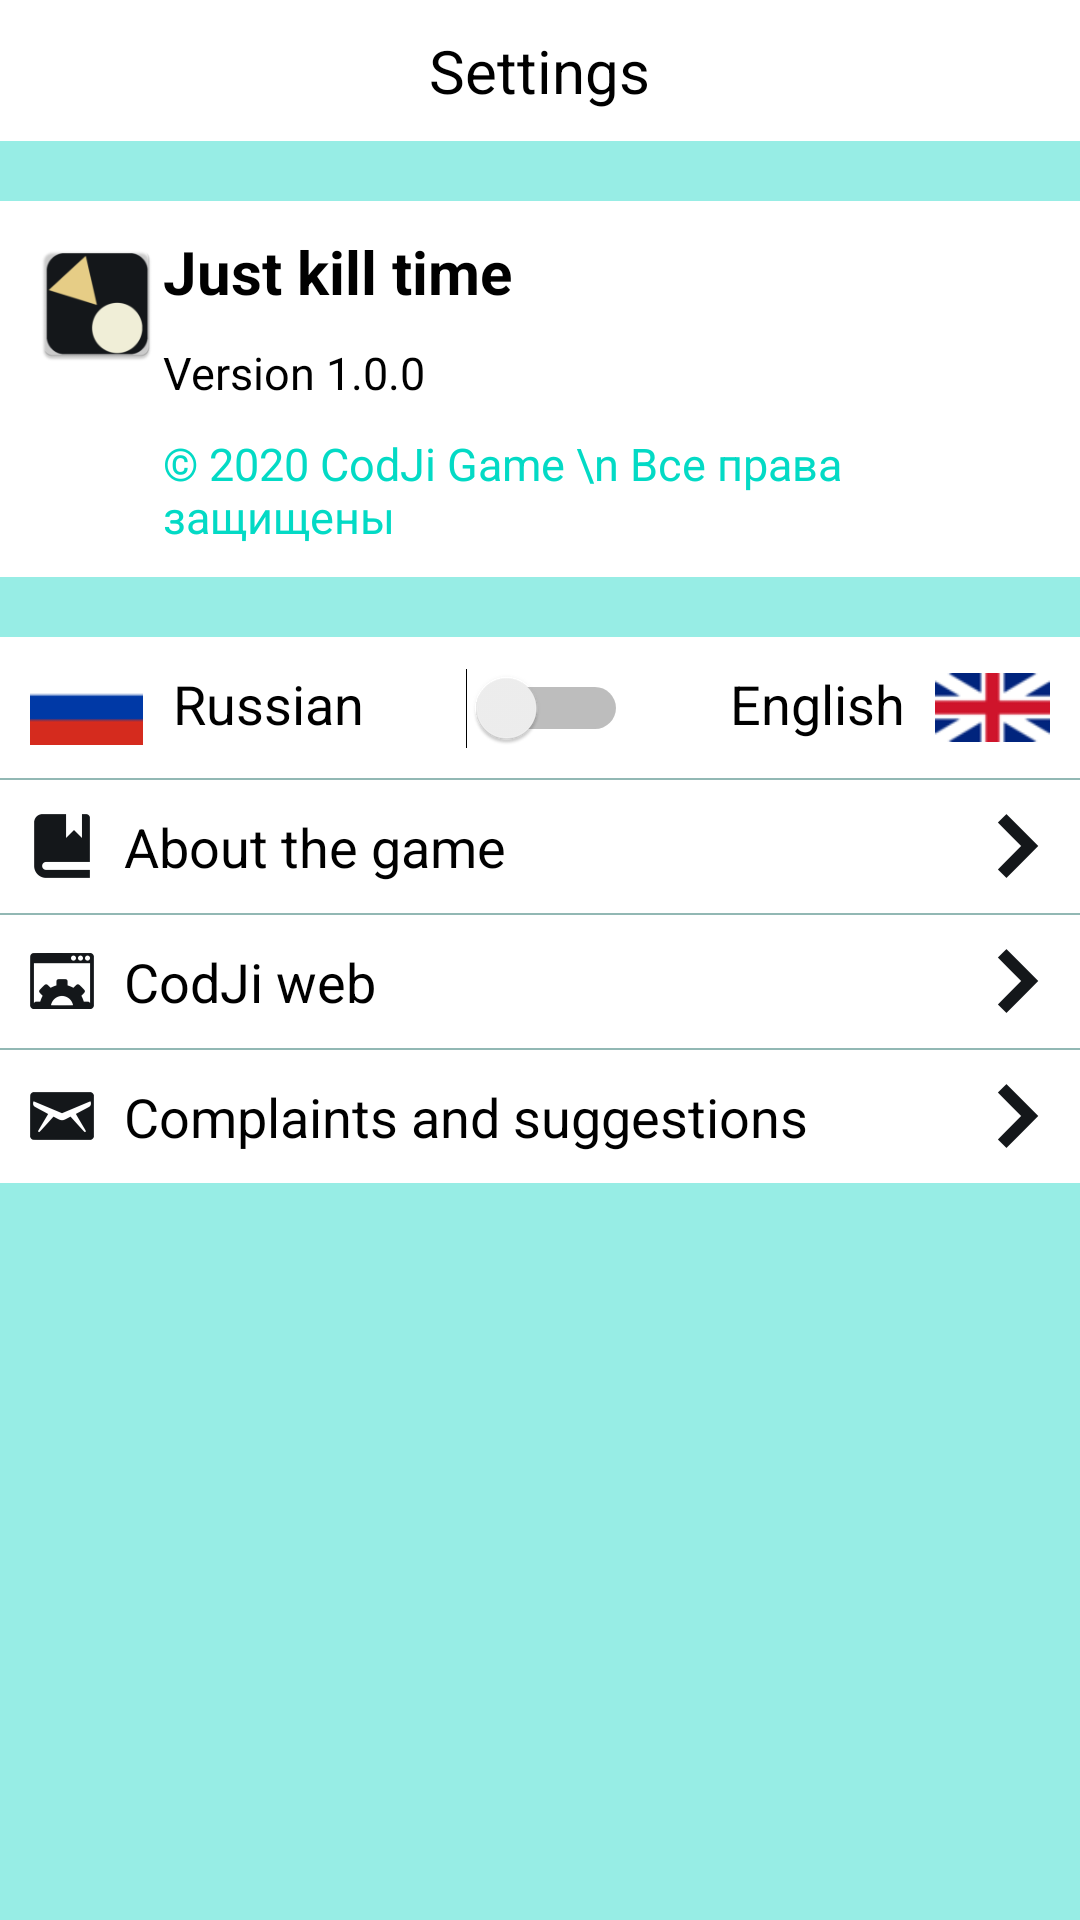

Icon click points for this 1080 x 1920 phone screenshot, format [x,y]:
arrow right: [1018,846], [1018,981], [1018,1116]
support: [62,1116]
